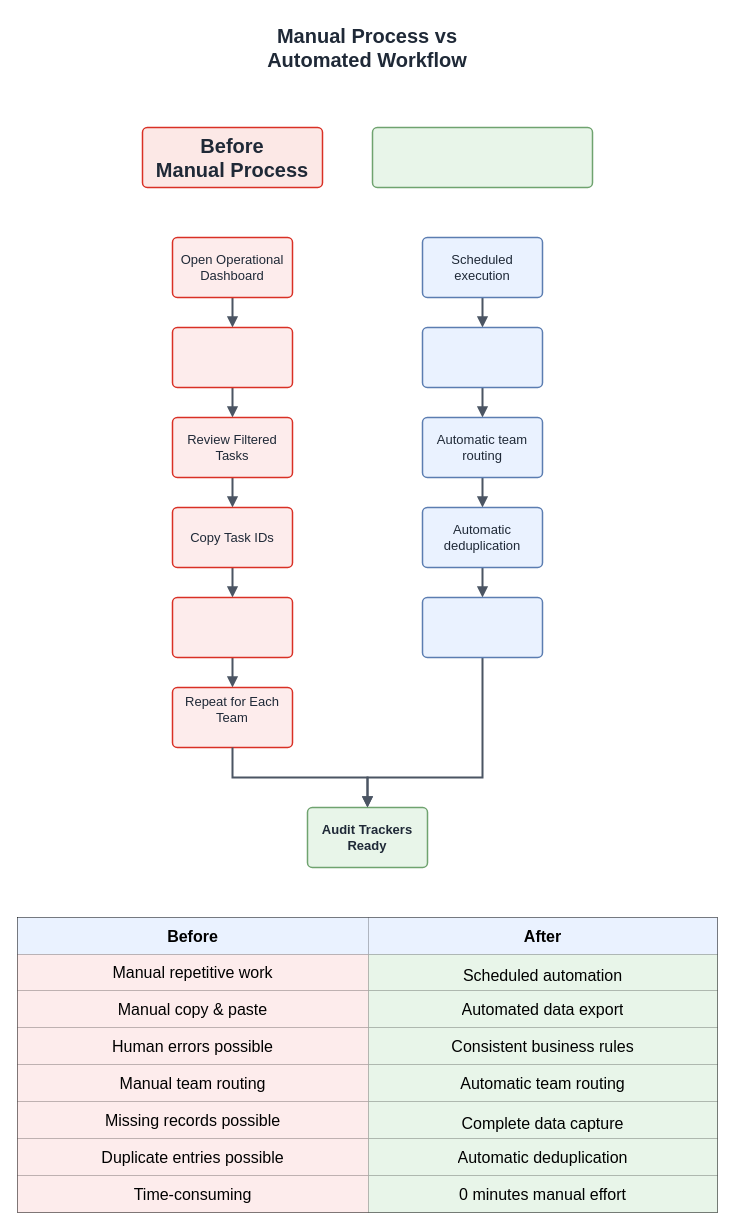
Some shapes in this 735 by 1230 pixel diagram are drawn without their labels. Each missing label, with the box of its shape:
After Automated Workflow: (371, 126, 593, 188)
Apply Business Filters: (171, 326, 293, 388)
Automated SQL filtering: (421, 326, 543, 388)
Google Sheets update: (421, 596, 543, 658)
Paste into Team Tracker: (171, 596, 293, 658)
